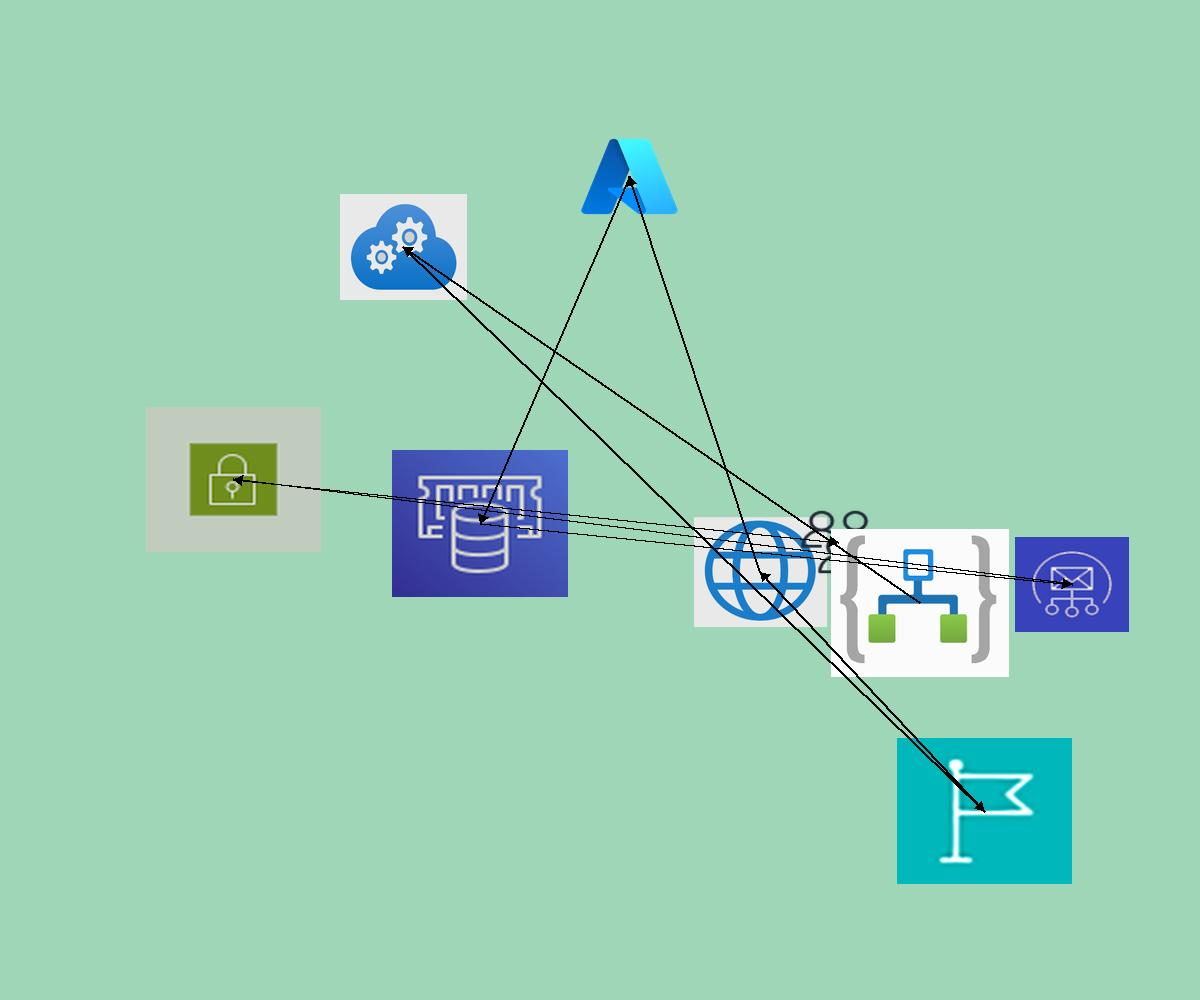AWS-ElastiCache: (392, 450, 568, 597)
AWS-Public-subnet: (146, 407, 321, 552)
AWS-Region: (897, 738, 1072, 884)
AWS-Res_Users: (798, 508, 879, 576)
AWS-Simple-Email-Service: (1015, 537, 1129, 632)
Azure_cloud_services: (340, 194, 467, 300)
Azure_http: (694, 517, 827, 627)
Azure_integration-204-Logic-Apps: (831, 529, 1009, 677)
Azure_services: (577, 133, 682, 220)
